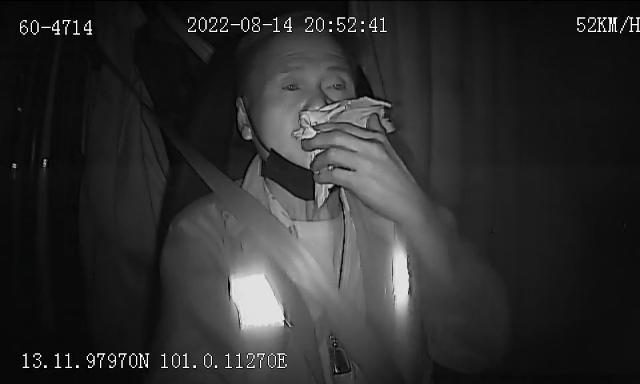SafeDriving: (276, 74, 308, 98)
Seatbelt: (178, 143, 396, 384)
